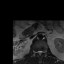CCS_normal: (39, 49, 40, 57)
LFS_normal: (42, 50, 44, 54)
LLS_normal: (40, 49, 42, 55)
RFS_stenosis: (35, 50, 37, 54)
RLS_normal: (37, 49, 39, 54)
